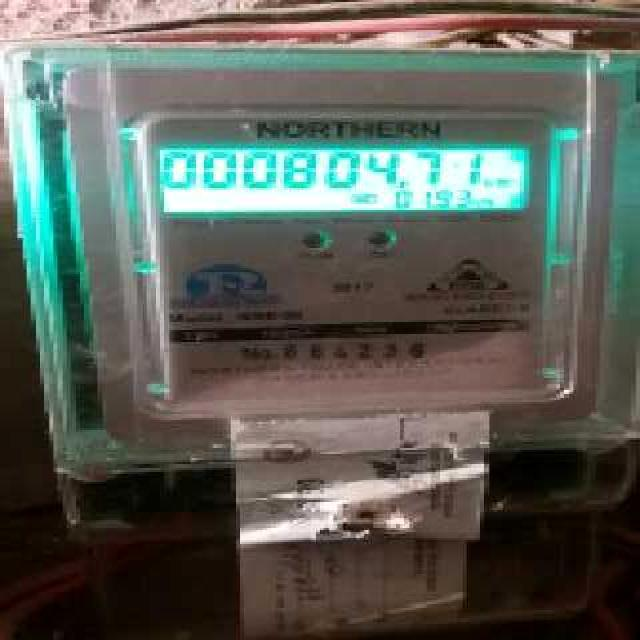LCD: (160, 138, 536, 221)
